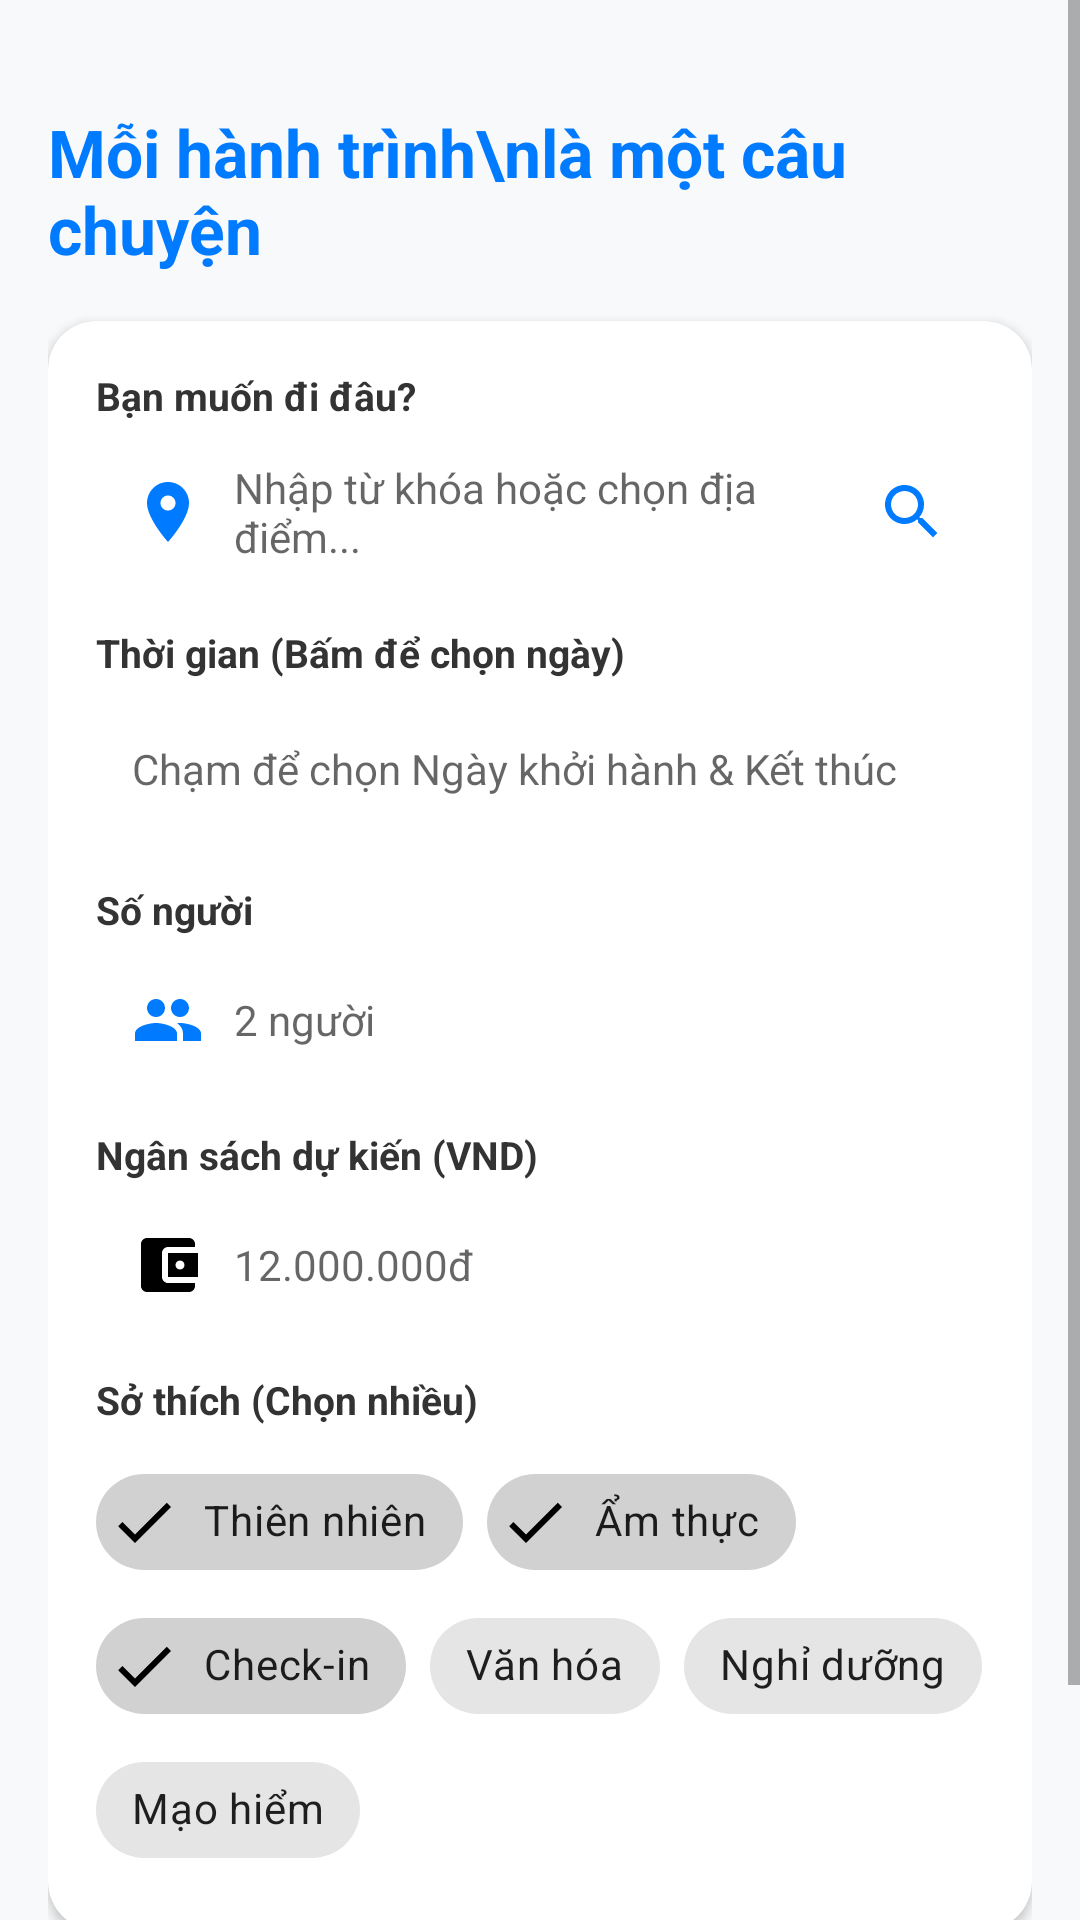

Named icons in this screenshot (1080px x 1920px) and their centers, (x=x, y=y):
search: (x=911, y=511)
